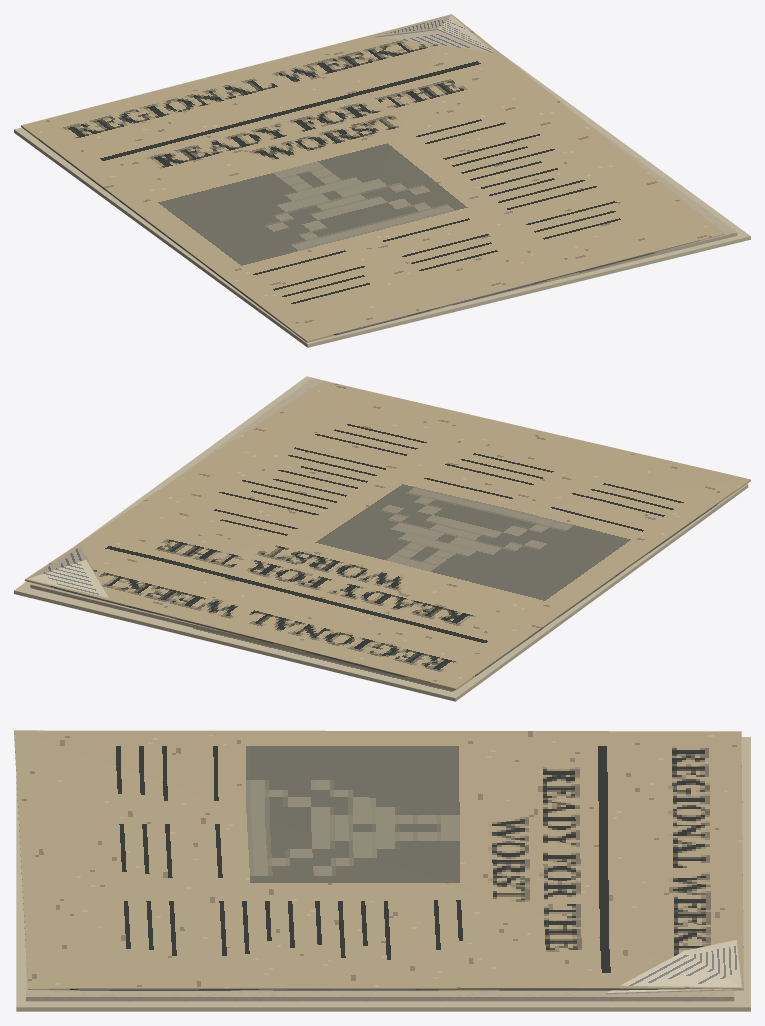
The model's file is one_year_old_newspaper.glb.
3 renders of one model, top to bottom at view 1: azimuth 30°, elevation 25°; view 2: azimuth 150°, elevation 25°; view 3: azimuth 270°, elevation 25°, orthographic. The views are drawn at different scales.
Visible parts, largest first — view 1: block_front page, block_lower fold, block_creased top corner, block_interior edges; view 2: block_front page, block_lower fold, block_interior edges, block_creased top corner; view 3: block_front page, block_lower fold, block_interior edges, block_creased top corner.
Part boxes in pixels (left/top/right/bottom): block_front page: left=21, top=14, right=724, bottom=342; block_lower fold: left=14, top=50, right=750, bottom=347; block_creased top corner: left=374, top=15, right=493, bottom=52; block_interior edges: left=468, top=120, right=737, bottom=301; block_front page: left=25, top=380, right=750, bottom=690; block_lower fold: left=14, top=376, right=748, bottom=701; block_interior edges: left=30, top=378, right=454, bottom=691; block_creased top corner: left=27, top=546, right=108, bottom=597; block_front page: left=14, top=730, right=743, bottom=990; block_lower fold: left=16, top=737, right=750, bottom=1011; block_interior edges: left=26, top=952, right=734, bottom=1001; block_creased top corner: left=606, top=940, right=743, bottom=994.
Bounding box in the file's own units: 0.271 × 0.0152 × 0.311.
Materials: 1 (1 with a texture image).
